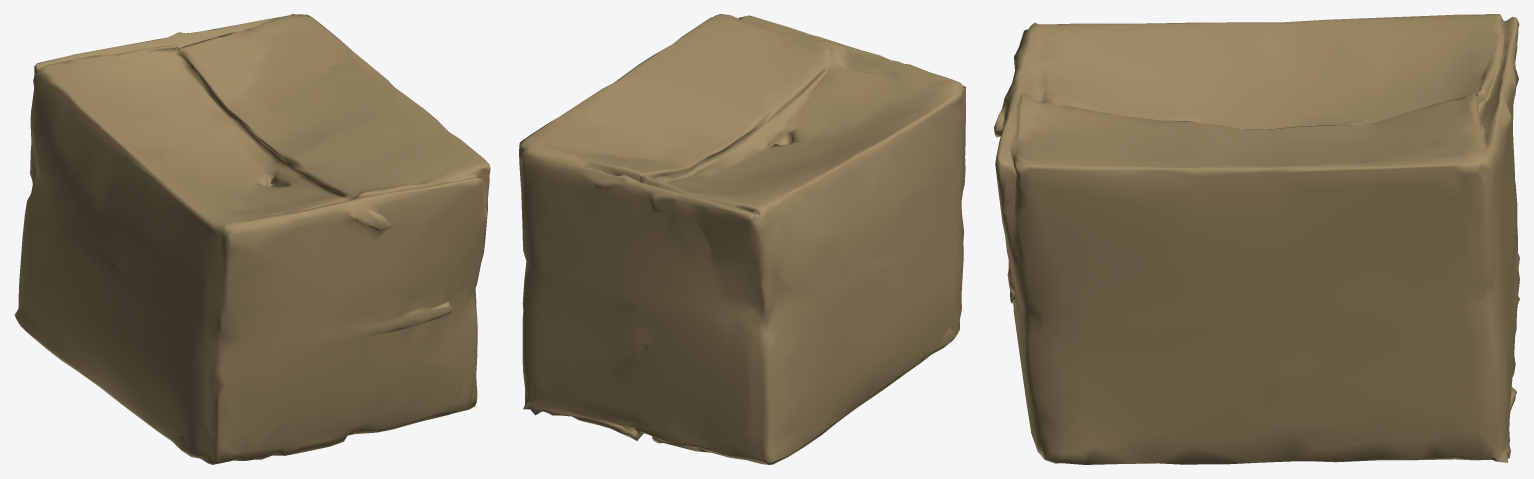
Rendered from cardboard-box.glb.
The picture shows the model from 3 angles, left to right: view 1: azimuth 30°, elevation 25°; view 2: azimuth 150°, elevation 25°; view 3: azimuth 270°, elevation 25°; orthographic projection. The views are drawn at different scales.
Visible parts, largest first — view 1: cardboard-box; view 2: cardboard-box; view 3: cardboard-box.
Part boxes in pixels (left/top/right/bottom): cardboard-box: left=14, top=14, right=490, bottom=464; cardboard-box: left=519, top=14, right=965, bottom=464; cardboard-box: left=994, top=14, right=1519, bottom=464.
Bounding box in the file's own units: 0.3871 × 0.3415 × 0.5159.
